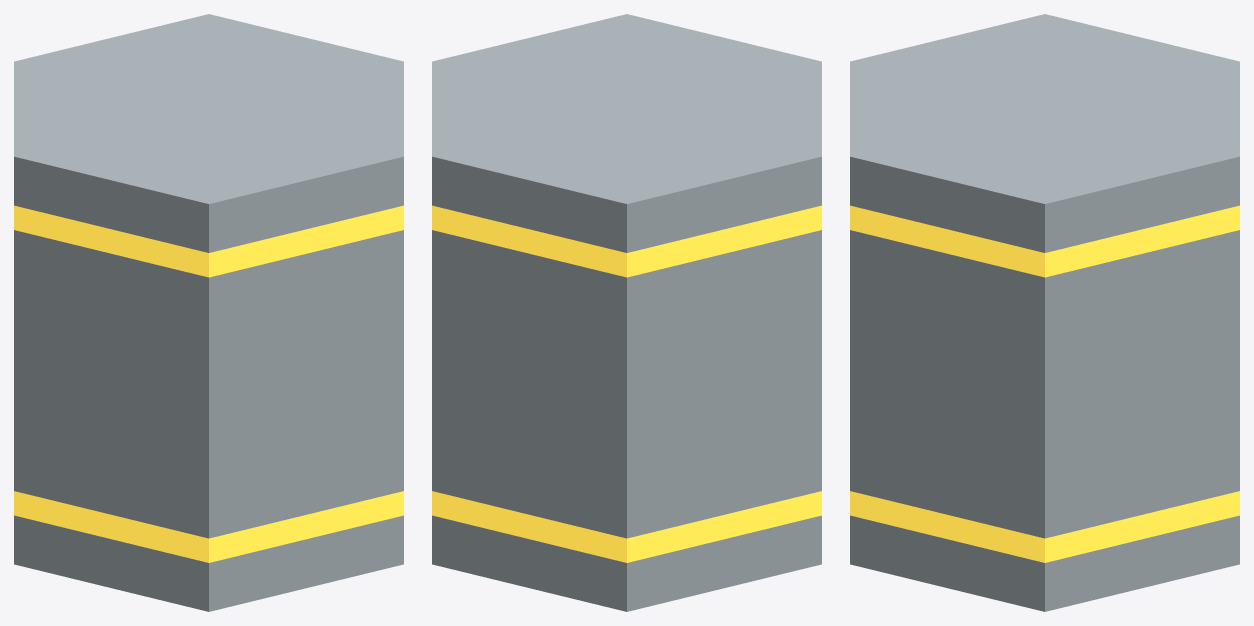
Rendered from SM_Hexagon_v0.fbx.
3 views of the same model, side by side, from view 1: azimuth 30°, elevation 25°; view 2: azimuth 150°, elevation 25°; view 3: azimuth 270°, elevation 25° (orthographic).
Parts seen in each view (by area): view 1: SM_Hexagon_v0; view 2: SM_Hexagon_v0; view 3: SM_Hexagon_v0.
Boxes of the visible parts, bbox=[...] form: SM_Hexagon_v0: bbox=[14, 14, 403, 611]; SM_Hexagon_v0: bbox=[432, 14, 821, 611]; SM_Hexagon_v0: bbox=[850, 14, 1239, 611].
Size of the model in its own units: 1 by 1 by 0.866.
